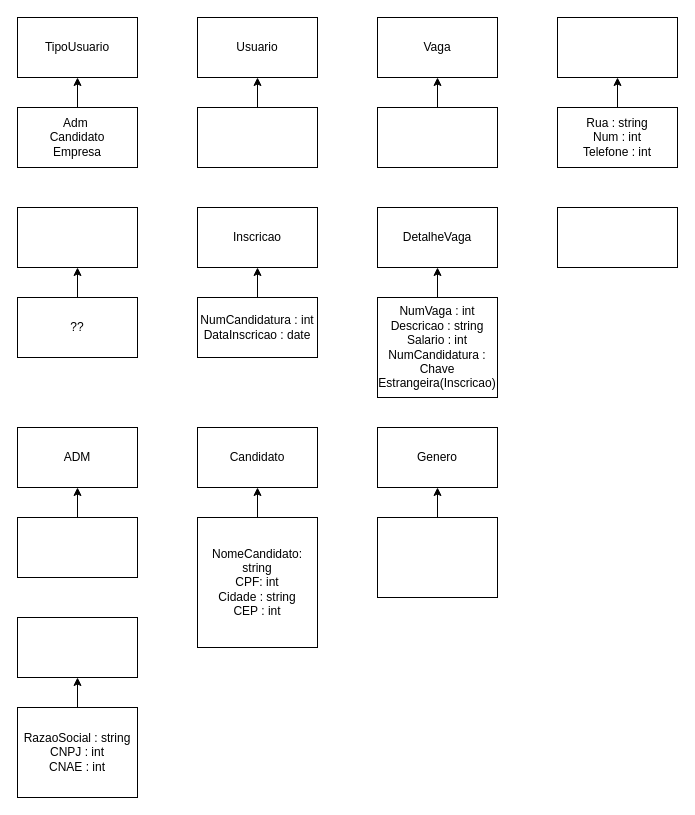
Image size: 695x815. Some labels were removed from this diagram. Here are the shapes that lost their labels. From the top down, the centre of each, then its label:
[617,47]: Endereco
[257,137]: Email : string Senha : string
[437,137]: NomeVaga : string DataCriacao : date DataFinal : date
[77,237]: TipoVaga
[617,237]: Alerta
[77,547]: NomeADM : string
[437,557]: Masculino : int Feminino : int Outros : int Prefiro não colocar : int
[77,647]: Empresa
